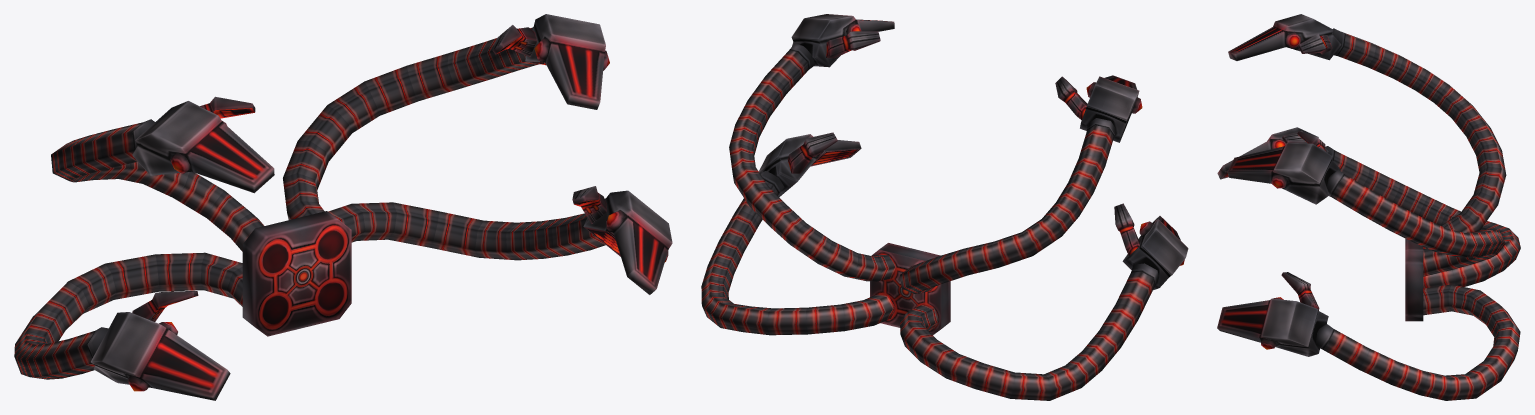
The picture shows the model from 3 angles, left to right: view 1: azimuth 30°, elevation 25°; view 2: azimuth 150°, elevation 25°; view 3: azimuth 270°, elevation 25°; orthographic projection. The views are drawn at different scales.
Visible parts, largest first — view 1: 3_Z_40; view 2: 3_Z_40; view 3: 3_Z_40.
Part boxes in pixels (left/top/right/bottom): 3_Z_40: left=14, top=14, right=672, bottom=400; 3_Z_40: left=701, top=14, right=1188, bottom=400; 3_Z_40: left=1217, top=14, right=1520, bottom=400.
Size of the model in its own units: 414 by 269 by 232.
